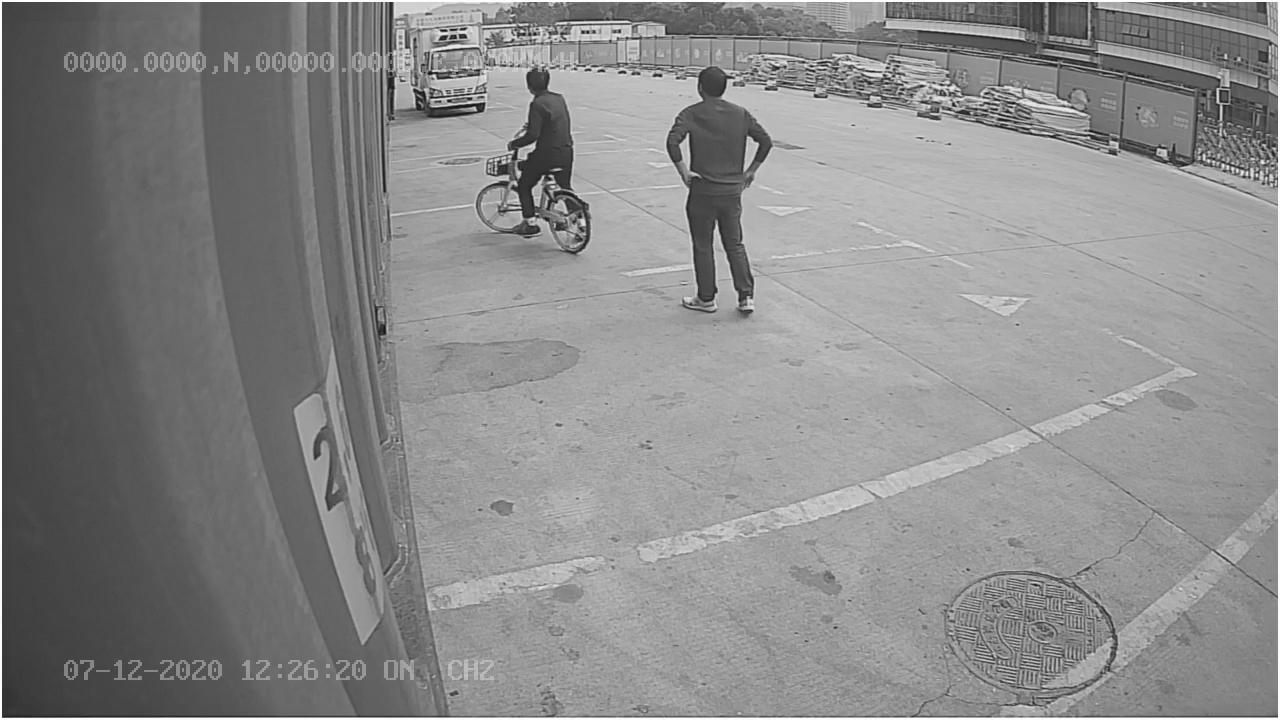person: (659, 62, 773, 319)
